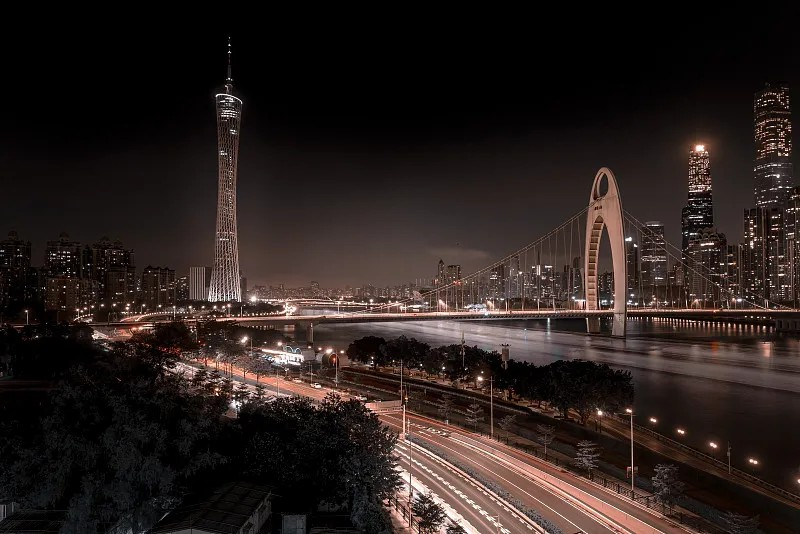Canton: (208, 33, 242, 302)
